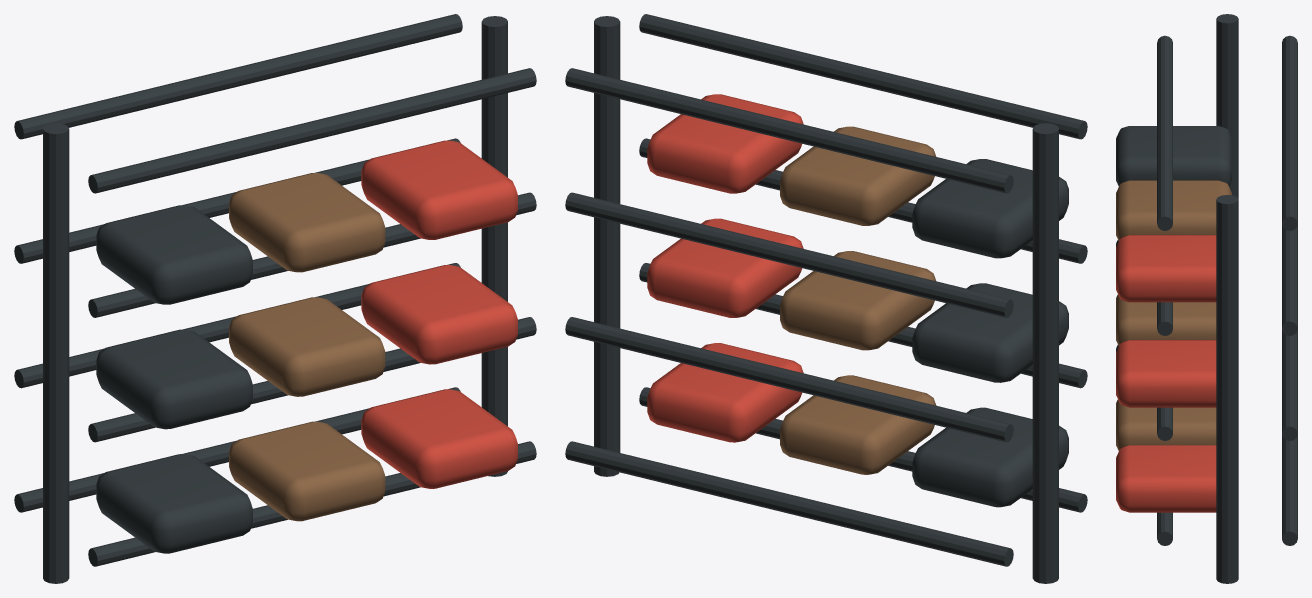
The model's file is shoe_rack_black.glb.
The picture shows the model from 3 angles, left to right: view 1: azimuth 30°, elevation 25°; view 2: azimuth 150°, elevation 25°; view 3: azimuth 270°, elevation 25°; orthographic projection. The views are drawn at different scales.
Parts seen in each view (by area): view 1: upright, stored shoe, stored shoe.001, stored shoe.003, stored shoe.002, stored shoe.004, stored shoe.005, stored shoe.007, stored shoe.008, stored shoe.006, shoe rail.006, shoe rail.007 (+7 smaller); view 2: upright, upright.001, stored shoe.005, stored shoe.001, stored shoe.002, stored shoe.007, stored shoe.008, stored shoe.004, shoe rail.001, shoe rail.005, shoe rail.007, shoe rail.003 (+7 smaller); view 3: upright.001, stored shoe.002, stored shoe.005, stored shoe.008, stored shoe.006, stored shoe.007, stored shoe.001, stored shoe.004, upright, shoe rail.006, shoe rail.007, shoe rail.005 (+5 smaller).
Boxes of the visible parts, bbox=[...] form: upright: bbox=[43, 123, 69, 583]; stored shoe: bbox=[96, 454, 252, 553]; stored shoe.001: bbox=[229, 421, 385, 521]; stored shoe.003: bbox=[96, 329, 252, 429]; stored shoe.002: bbox=[361, 389, 517, 488]; stored shoe.004: bbox=[229, 297, 385, 396]; stored shoe.005: bbox=[361, 265, 517, 364]; stored shoe.007: bbox=[229, 173, 385, 272]; stored shoe.008: bbox=[361, 140, 517, 239]; stored shoe.006: bbox=[96, 205, 252, 304]; shoe rail.006: bbox=[88, 68, 536, 193]; shoe rail.007: bbox=[14, 14, 462, 139]; upright: bbox=[1032, 123, 1058, 583]; upright.001: bbox=[594, 16, 620, 476]; stored shoe.005: bbox=[647, 218, 803, 317]; stored shoe.001: bbox=[780, 375, 936, 474]; stored shoe.002: bbox=[647, 343, 803, 442]; stored shoe.007: bbox=[780, 126, 936, 225]; stored shoe.008: bbox=[647, 94, 803, 193]; stored shoe.004: bbox=[780, 251, 935, 350]; shoe rail.001: bbox=[565, 441, 1013, 566]; shoe rail.005: bbox=[565, 192, 1013, 317]; shoe rail.007: bbox=[565, 68, 1013, 193]; shoe rail.003: bbox=[565, 317, 1013, 442]; upright.001: bbox=[1216, 195, 1238, 583]; stored shoe.002: bbox=[1116, 445, 1216, 512]; stored shoe.005: bbox=[1116, 340, 1216, 407]; stored shoe.008: bbox=[1116, 235, 1216, 302]; stored shoe.006: bbox=[1116, 126, 1231, 186]; stored shoe.007: bbox=[1116, 180, 1231, 240]; stored shoe.001: bbox=[1116, 399, 1216, 450]; stored shoe.004: bbox=[1116, 294, 1216, 345]; upright: bbox=[1216, 14, 1238, 198]; shoe rail.006: bbox=[1157, 35, 1172, 230]; shoe rail.007: bbox=[1282, 35, 1297, 230]; shoe rail.005: bbox=[1282, 224, 1297, 335].
Size of the model in its own units: 1.01 by 0.94 by 0.408.
